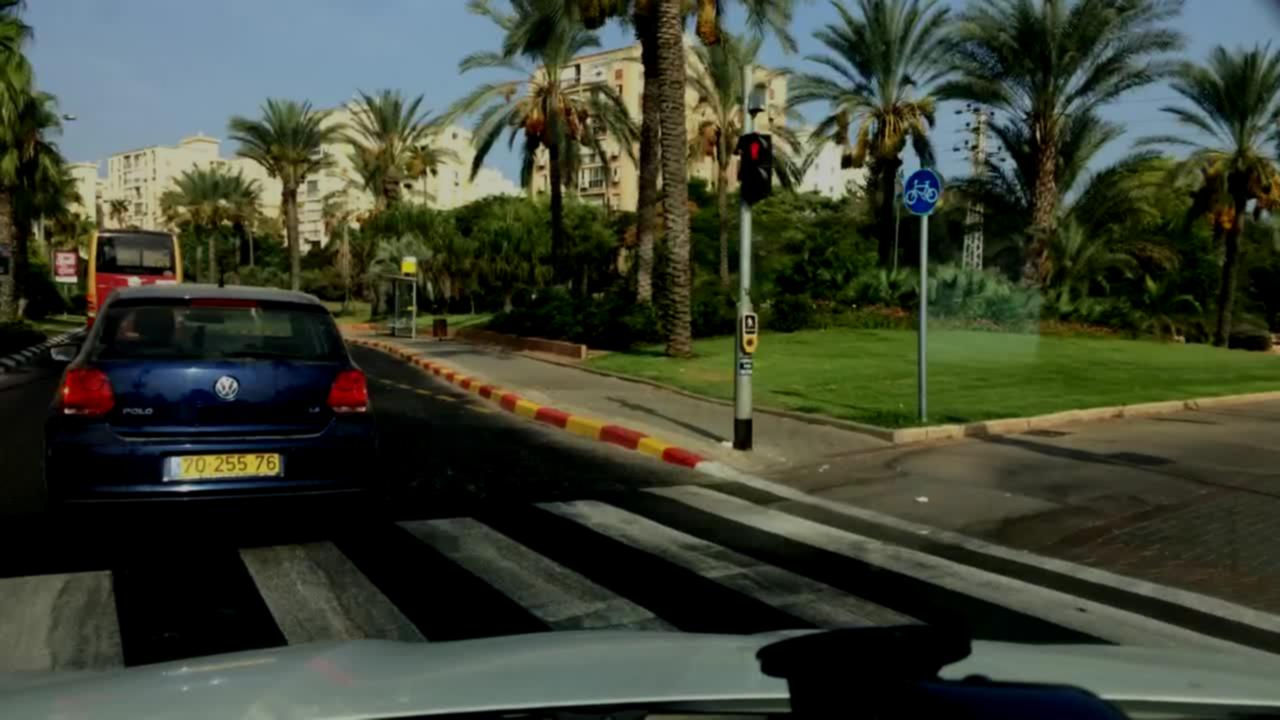Volkswagen: (207, 365, 243, 406)
